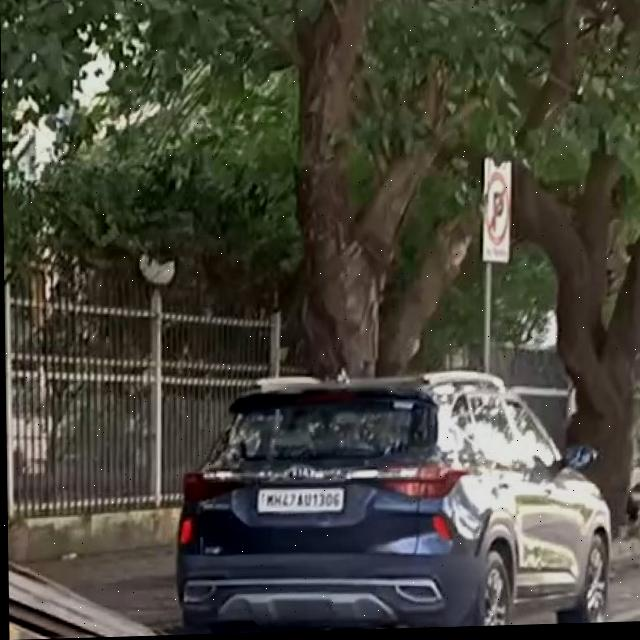plate: (252, 485, 343, 516)
